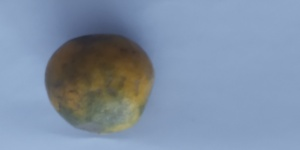BAD: (45, 33, 155, 135)
